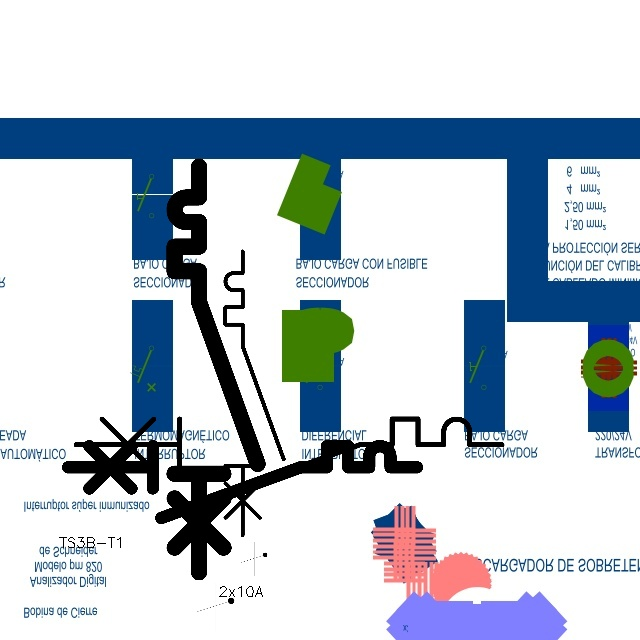interruptor_termomagnetico: (65, 408, 513, 517), (164, 156, 268, 583), (59, 437, 426, 527), (218, 244, 291, 542)
